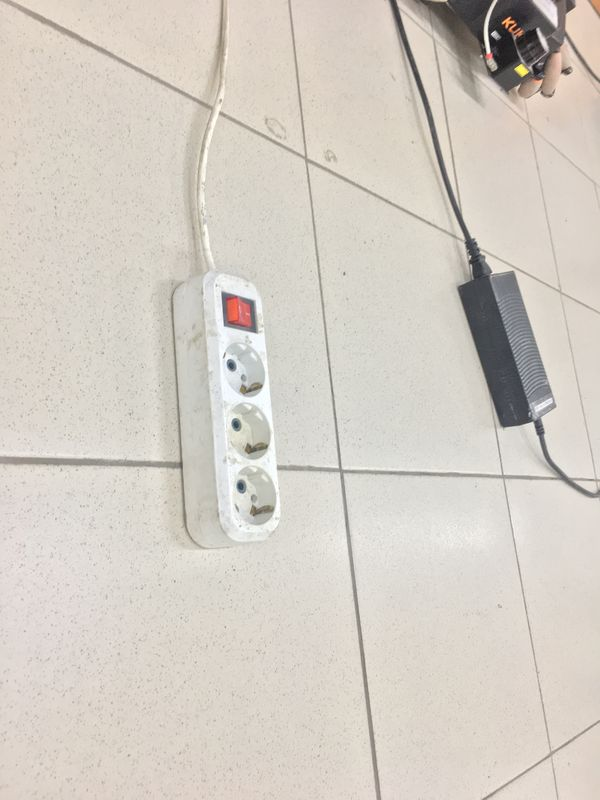socket: (166, 268, 290, 557)
